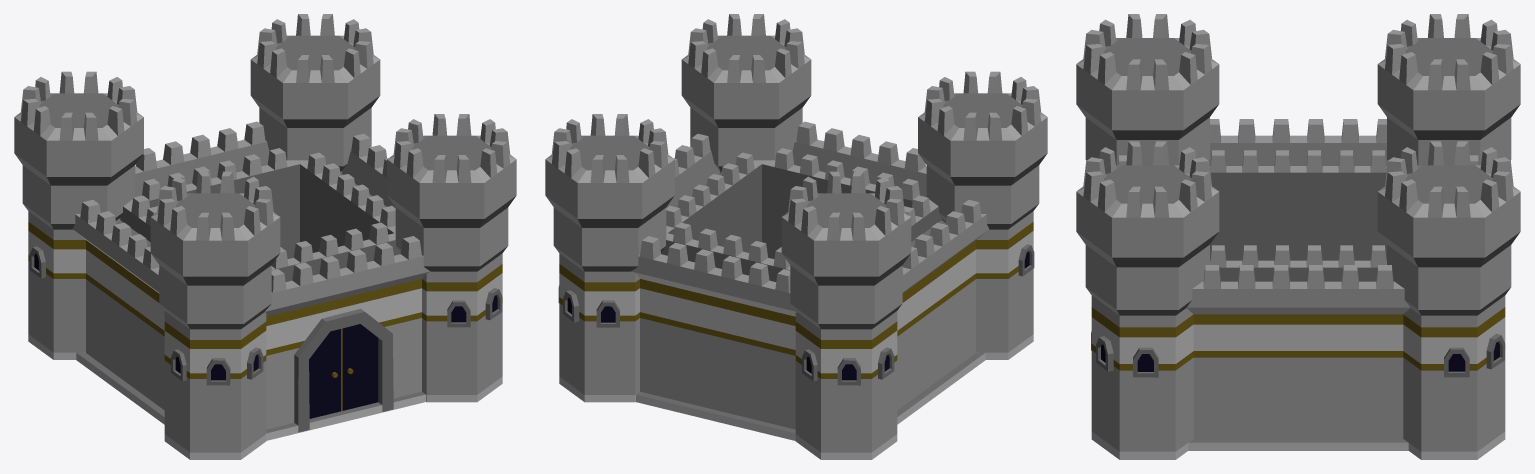
The model's file is low_poly_castle.glb.
3 views of the same model, side by side, from view 1: azimuth 30°, elevation 25°; view 2: azimuth 150°, elevation 25°; view 3: azimuth 270°, elevation 25° (orthographic). The views are drawn at different scales.
Visible parts, largest first — view 1: main, tower01, tower02, tower04, tower03, Cylinder.002; view 2: main, tower04, tower03, tower01, tower02; view 3: main, tower02, tower03, tower01, tower04.
Boxes of the visible parts, x1=… form: main: x1=73, y1=121, x2=430, y2=440; tower01: x1=150, y1=171, x2=280, y2=459; tower02: x1=387, y1=114, x2=516, y2=402; tower04: x1=14, y1=71, x2=143, y2=359; tower03: x1=250, y1=14, x2=380, y2=173; Cylinder.002: x1=294, y1=308, x2=393, y2=432; main: x1=631, y1=121, x2=988, y2=440; tower04: x1=781, y1=171, x2=911, y2=459; tower03: x1=545, y1=114, x2=674, y2=402; tower01: x1=918, y1=71, x2=1047, y2=359; tower02: x1=681, y1=14, x2=811, y2=173; main: x1=1118, y1=119, x2=1479, y2=450; tower02: x1=1076, y1=141, x2=1219, y2=459; tower03: x1=1377, y1=141, x2=1520, y2=459; tower01: x1=1076, y1=14, x2=1219, y2=165; tower04: x1=1377, y1=14, x2=1520, y2=165.
Size of the model in its own units: 653 by 462 by 682.
